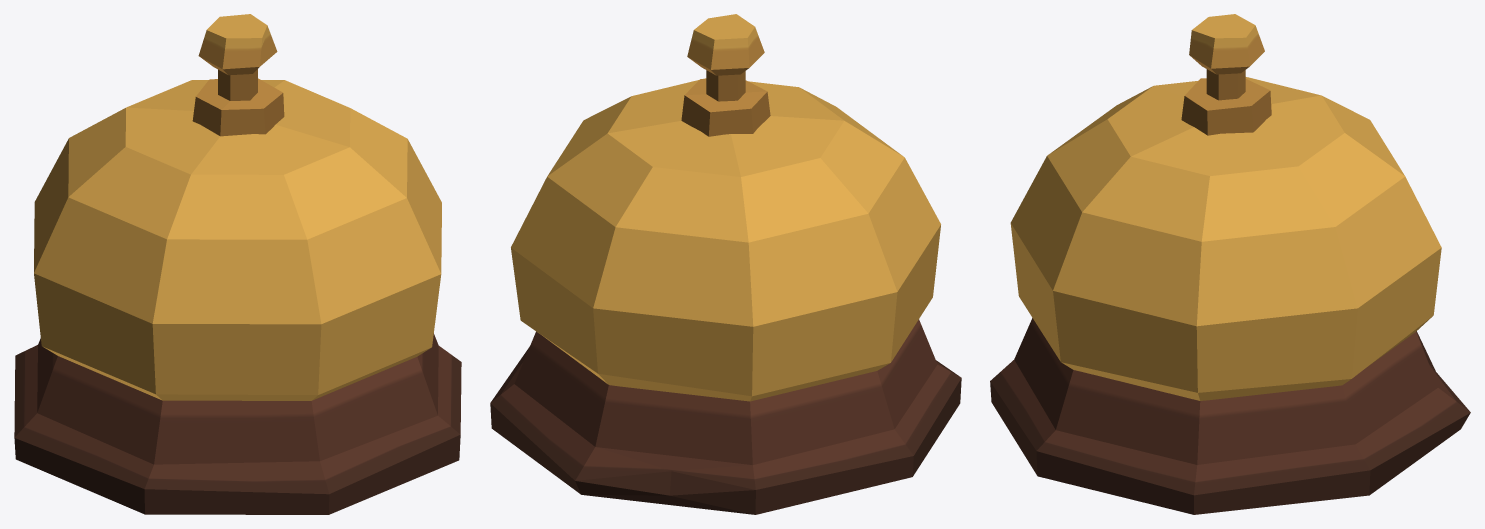
The model's file is SM_Prop_Reception_Bell_01.obj.
3 renders of one model, left to right at view 1: azimuth 30°, elevation 25°; view 2: azimuth 150°, elevation 25°; view 3: azimuth 270°, elevation 25°, orthographic.
Visible parts, largest first — view 1: SM_Prop_Reception_Bell_01_0; view 2: SM_Prop_Reception_Bell_01_0; view 3: SM_Prop_Reception_Bell_01_0.
Boxes of the visible parts, x1=… form: SM_Prop_Reception_Bell_01_0: x1=14, y1=14, x2=461, y2=514; SM_Prop_Reception_Bell_01_0: x1=490, y1=14, x2=961, y2=514; SM_Prop_Reception_Bell_01_0: x1=990, y1=14, x2=1470, y2=514.
Bounding box in the file's own units: 0.2045 × 0.1859 × 0.2082.
1 material, 1 textured.
